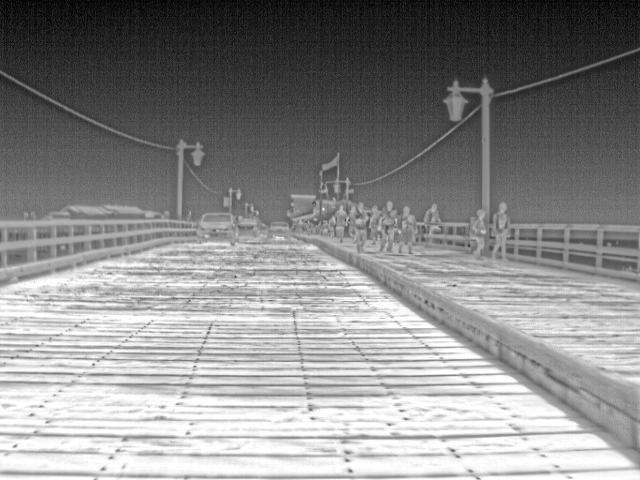car: (194, 212, 240, 244), (266, 220, 293, 241), (234, 218, 257, 236)
person: (489, 198, 512, 260), (374, 199, 396, 253), (466, 206, 488, 259), (399, 205, 419, 254), (422, 200, 443, 246), (349, 204, 368, 250), (330, 203, 351, 243), (368, 204, 383, 244)
